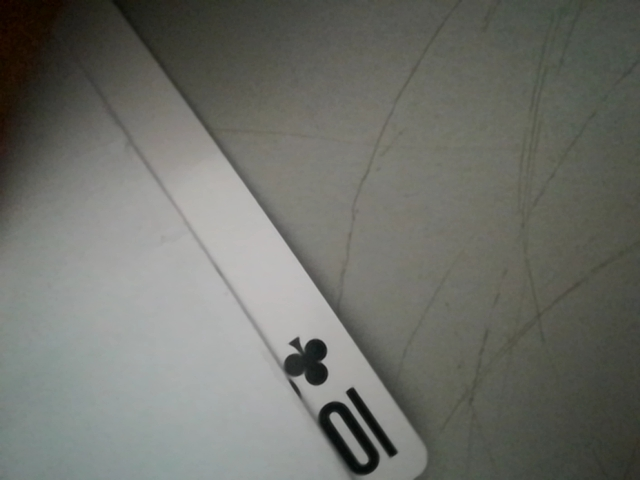mh 10: (262, 323, 414, 479)
